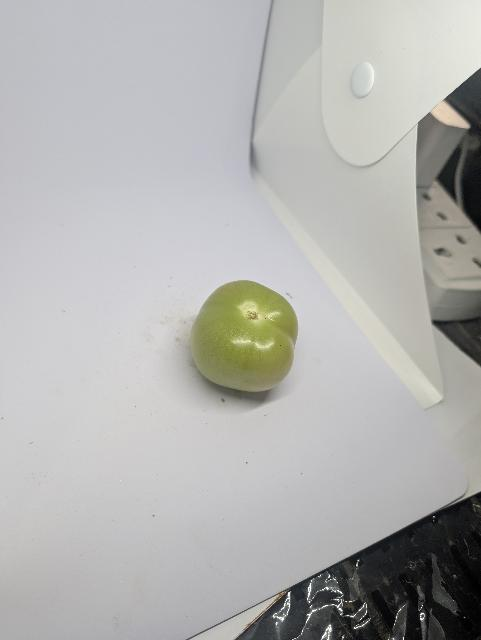green: (188, 278, 301, 396)
